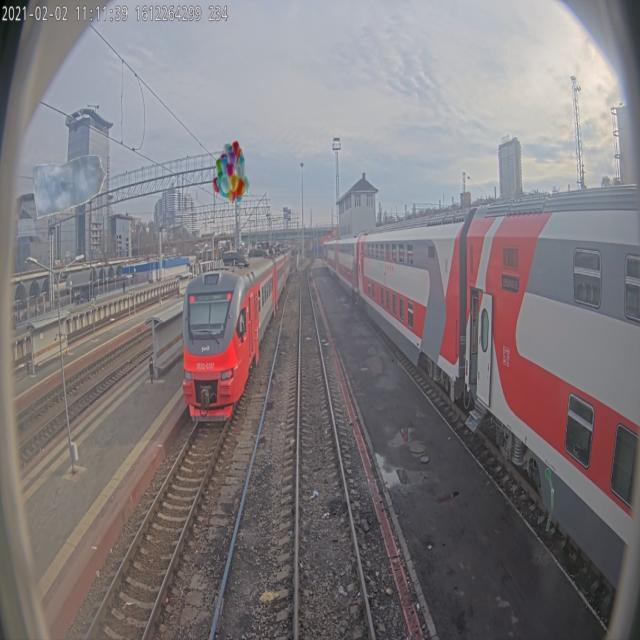balloon: (212, 140, 250, 204)
floating object: (545, 467, 554, 531)
plastic bag: (33, 154, 107, 218)
